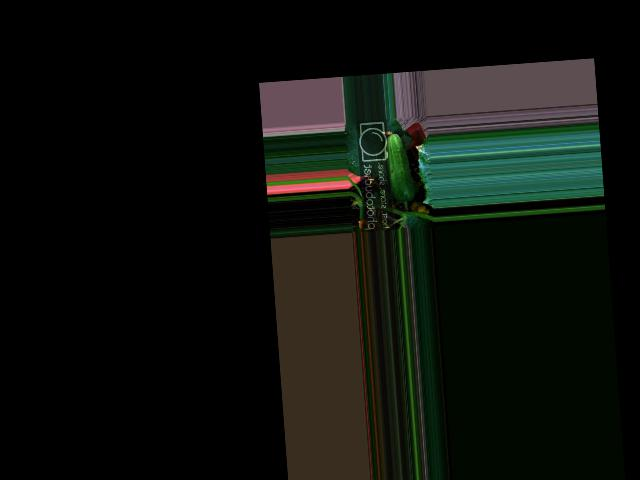cucumber: (382, 131, 415, 202)
